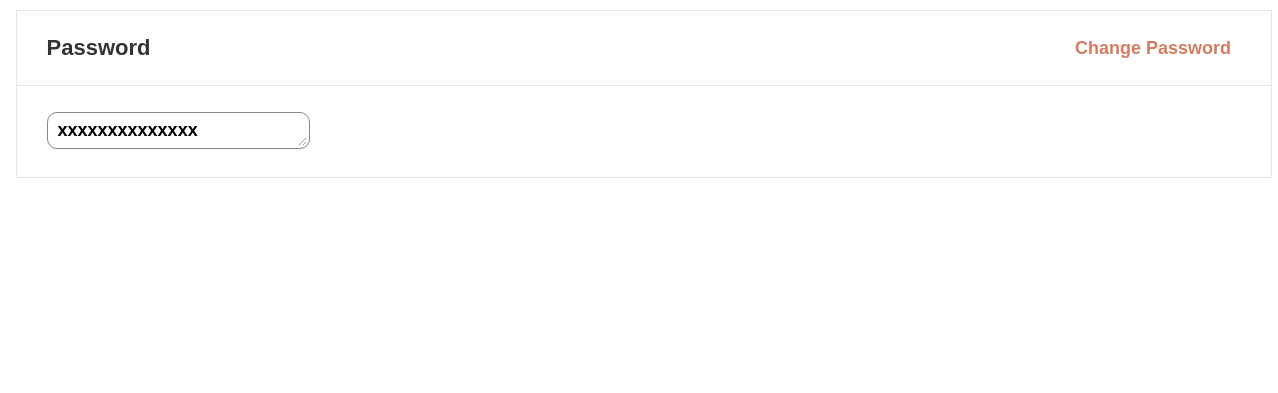
saving › needs a verified old password and matching new ones
The width and height of the screenshot is (1278, 393).
Click the button "Change Password": (1152, 48) [1072,37,1232,59]
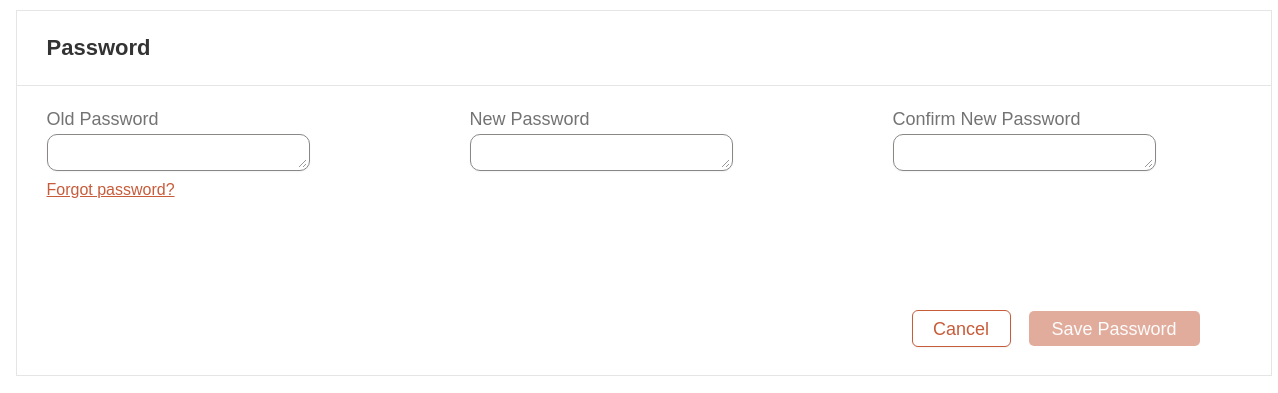
Expected: the button "Save Password" is disabled, [1028,310,1200,347]
In the password field with test id "newPassword": (601, 152) [470,134,732,171], type "new password"
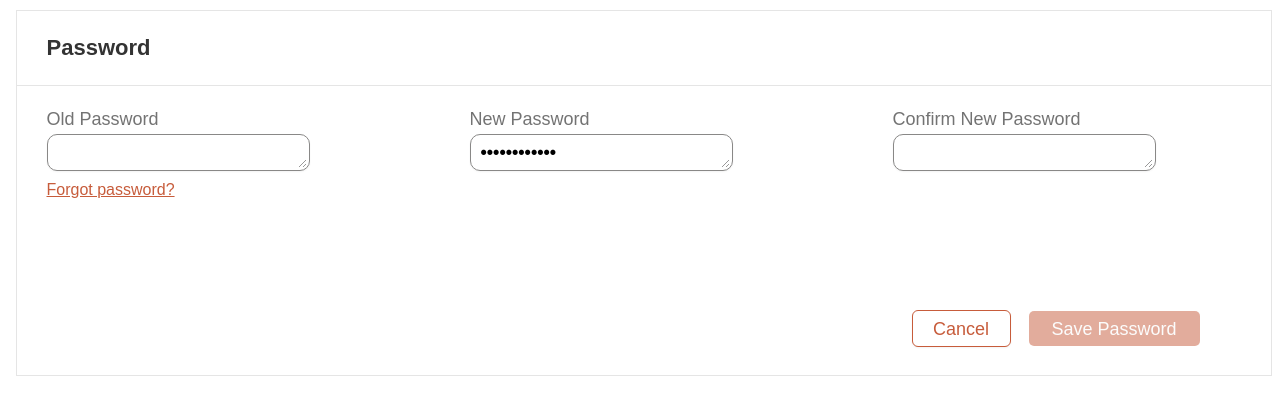
In the password field with test id "confirmPassword": (1024, 152) [892,134,1156,171], type "new password"
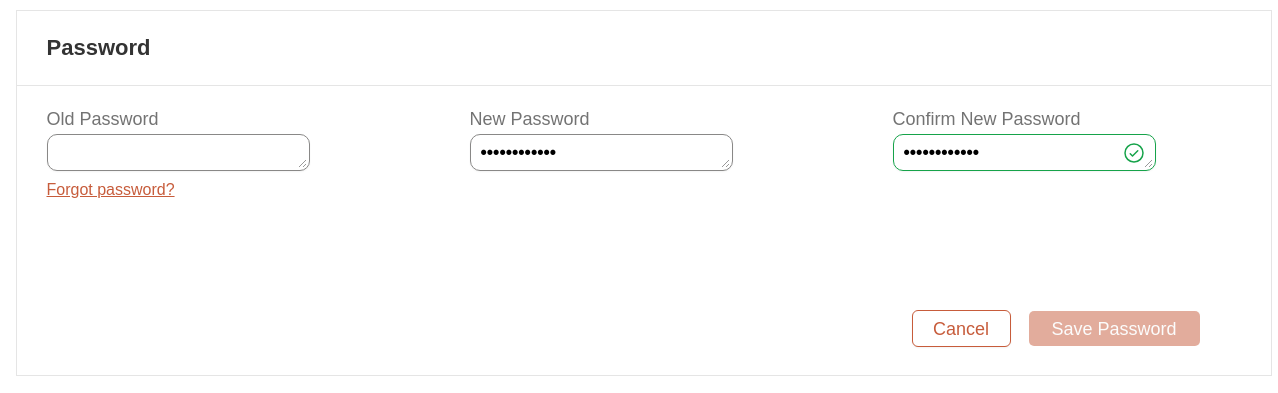
Expected: the button "Save Password" is disabled, [1028,310,1200,347]
In the password field with test id "oldPassword": (178, 152) [46,134,310,171], type "old password"
Wait 1000 ms
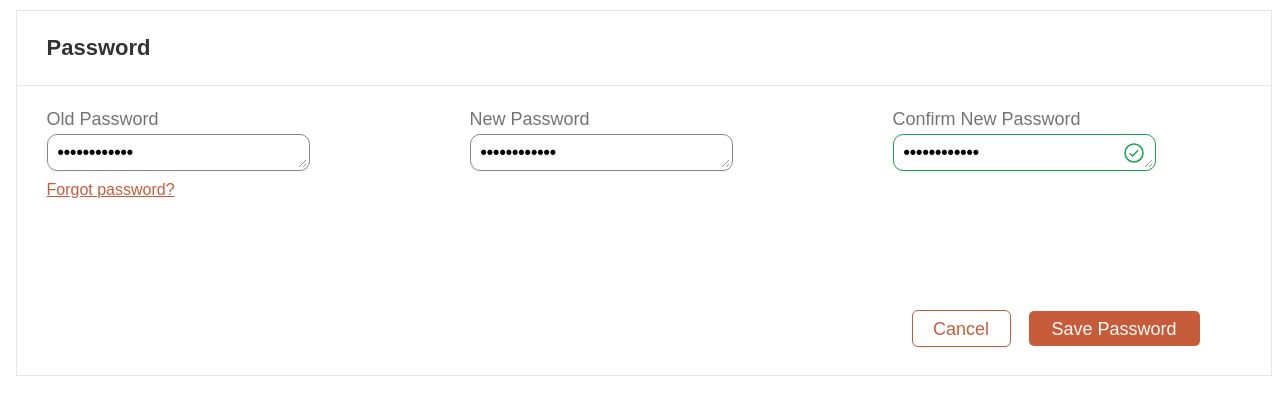
Expected: the button "Save Password" is enabled, [1028,310,1200,347]
In the password field with test id "confirmPassword": (1024, 152) [892,134,1156,171], type "different"
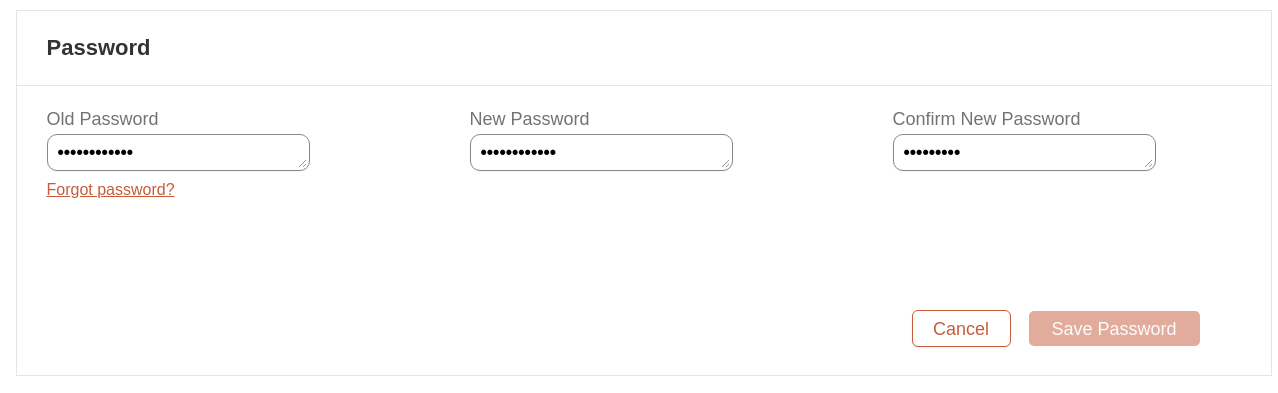
Expected: the button "Save Password" is disabled, [1028,310,1200,347]
